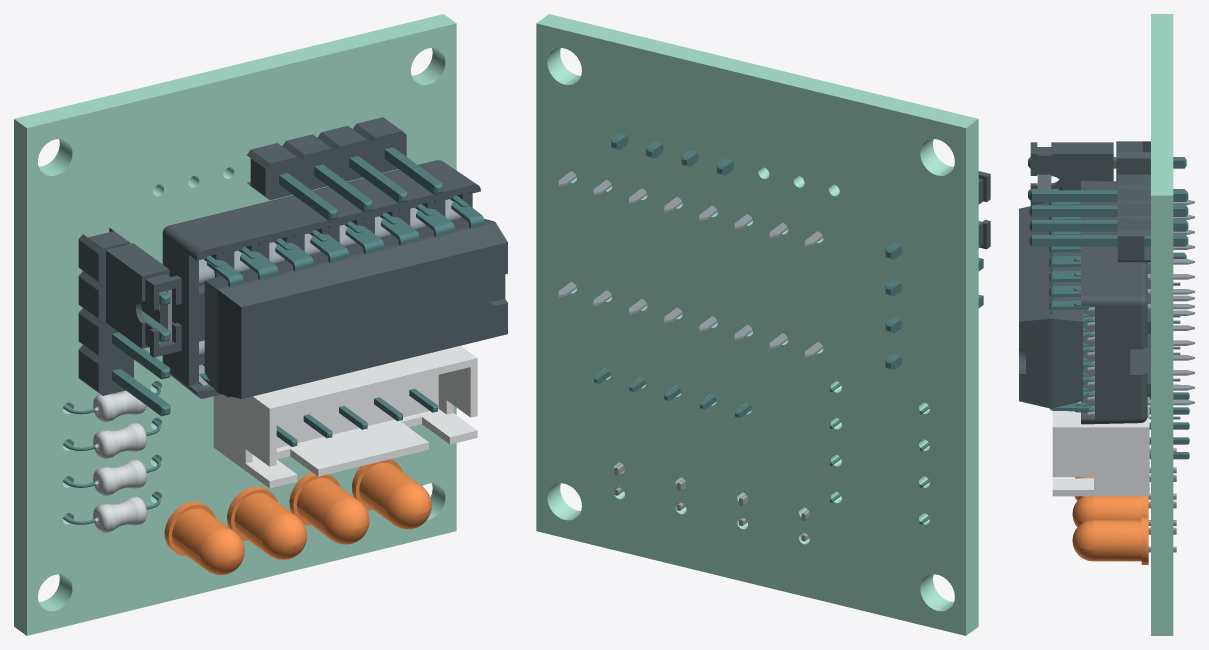
File: veemap-stepper-driver.glb
3 views of the same model, side by side, from view 1: azimuth 30°, elevation 25°; view 2: azimuth 150°, elevation 25°; view 3: azimuth 270°, elevation 25° (orthographic). The views are drawn at different scales.
Parts seen in each view (by area): view 1: empty_58, empty_24, empty_2, empty_41, empty_59, empty_73, empty_76, empty_79, empty_82, empty_8, empty_20, empty_10 (+21 smaller); view 2: empty_58, empty_59; view 3: empty_58, empty_41, empty_24, empty_2, empty_59, empty_82, empty_79, empty_12, empty_13, empty_9, empty_11, empty_15 (+9 smaller).
Part boxes in pixels (bbox=[...]): empty_58: bbox=[14, 14, 456, 635]; empty_24: bbox=[204, 217, 507, 399]; empty_2: bbox=[213, 345, 477, 488]; empty_41: bbox=[162, 160, 480, 398]; empty_59: bbox=[106, 243, 181, 357]; empty_73: bbox=[164, 501, 244, 574]; empty_76: bbox=[227, 486, 307, 559]; empty_79: bbox=[289, 472, 369, 544]; empty_82: bbox=[352, 459, 431, 529]; empty_8: bbox=[247, 143, 300, 200]; empty_20: bbox=[78, 345, 133, 395]; empty_10: bbox=[282, 134, 336, 189]; empty_58: bbox=[536, 14, 978, 635]; empty_59: bbox=[978, 171, 990, 249]; empty_58: bbox=[1151, 14, 1173, 635]; empty_41: bbox=[1081, 180, 1150, 424]; empty_24: bbox=[1019, 202, 1082, 408]; empty_2: bbox=[1052, 397, 1149, 496]; empty_59: bbox=[1030, 142, 1113, 205]; empty_82: bbox=[1072, 516, 1148, 564]; empty_79: bbox=[1072, 496, 1148, 527]; empty_12: bbox=[1117, 219, 1150, 262]; empty_13: bbox=[1029, 235, 1188, 246]; empty_9: bbox=[1029, 190, 1188, 201]; empty_11: bbox=[1029, 205, 1188, 216]; empty_15: bbox=[1029, 220, 1188, 231].
Size of the model in its own units: 0.031 by 0.035 by 0.0127.
